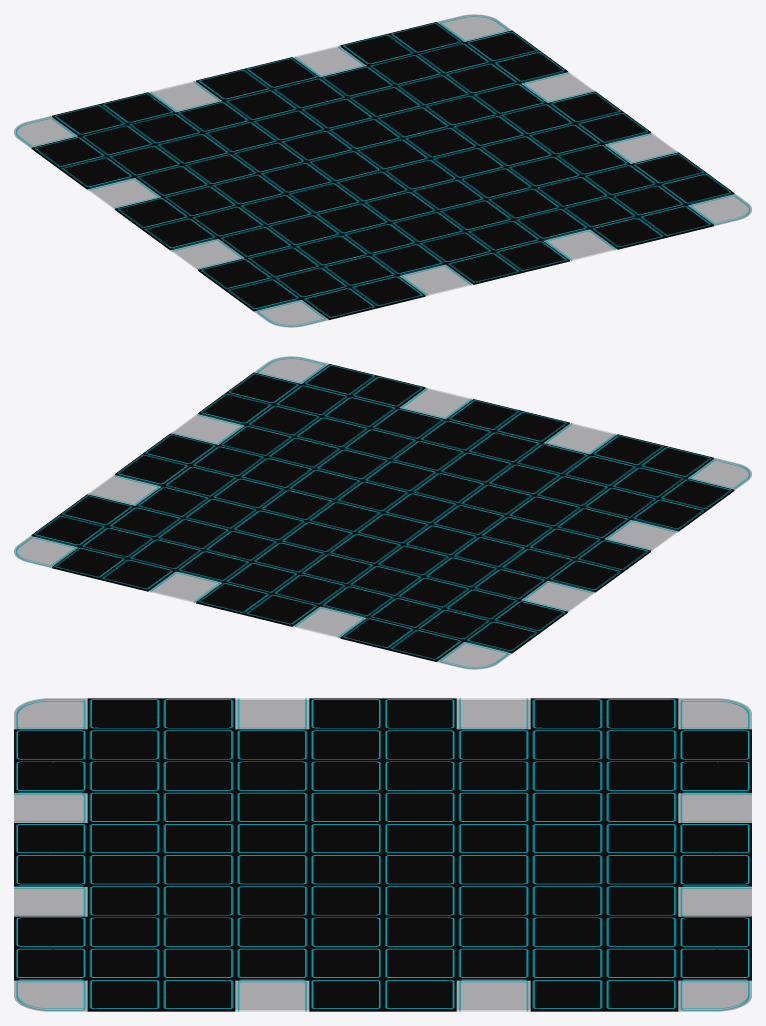
Rendered from arena_l01_01.dae.
3 views of the same model, one above another, from view 1: azimuth 30°, elevation 25°; view 2: azimuth 150°, elevation 25°; view 3: azimuth 270°, elevation 25° (orthographic). The views are drawn at different scales.
Parts seen in each view (by area): view 1: centerl01, pln1b2l01.003, pln1b2l01.001, pln1b2l01.002, pln1b2l01.011, pln1b2l01.010, pln1b2l01, pln1b2l01.007, pln1b2l01.004, pln1b2l01.009, pln1b2l01.006, pln1b2l01.008 (+13 smaller); view 2: centerl01, pln1b2l01.009, pln1b2l01.007, pln1b2l01.008, pln1b2l01.011, pln1b2l01.010, pln1b2l01, pln1b2l01.006, pln1b2l01.001, pln1b2l01.004, pln1b2l01.003, pln1b2l01.002 (+13 smaller); view 3: centerl01, pln1b2l01.006, pln1b2l01.004, pln1b2l01.005, pln1b2l01.011, pln1b2l01.010, pln1b2l01.007, pln1b2l01.001, pln1b2l01.009, pln1b2l01.003, pln1b2l01.008, pln1b2l01.002 (+13 smaller).
Boxes of the visible parts, left/top/right/bottom form: centerl01: left=80, top=42, right=685, bottom=299; pln1b2l01.003: left=302, top=275, right=425, bottom=319; pln1b2l01.001: left=590, top=205, right=713, bottom=249; pln1b2l01.002: left=446, top=240, right=569, bottom=284; pln1b2l01.011: left=31, top=136, right=134, bottom=189; pln1b2l01.010: left=198, top=258, right=301, bottom=311; pln1b2l01: left=115, top=197, right=217, bottom=250; pln1b2l01.007: left=340, top=22, right=463, bottom=65; pln1b2l01.004: left=631, top=152, right=734, bottom=205; pln1b2l01.009: left=52, top=92, right=175, bottom=136; pln1b2l01.006: left=464, top=30, right=567, bottom=83; pln1b2l01.008: left=196, top=57, right=319, bottom=100; centerl01: left=80, top=384, right=685, bottom=641; pln1b2l01.009: left=340, top=617, right=463, bottom=661; pln1b2l01.007: left=52, top=547, right=175, bottom=591; pln1b2l01.008: left=196, top=582, right=319, bottom=626; pln1b2l01.011: left=464, top=600, right=567, bottom=653; pln1b2l01.010: left=631, top=478, right=734, bottom=531; pln1b2l01: left=548, top=539, right=650, bottom=592; pln1b2l01.006: left=31, top=494, right=134, bottom=547; pln1b2l01.001: left=302, top=364, right=425, bottom=407; pln1b2l01.004: left=198, top=372, right=301, bottom=425; pln1b2l01.003: left=590, top=434, right=713, bottom=478; pln1b2l01.002: left=446, top=399, right=569, bottom=442; centerl01: left=87, top=729, right=678, bottom=980; pln1b2l01.006: left=530, top=979, right=678, bottom=1011; pln1b2l01.004: left=87, top=979, right=235, bottom=1011; pln1b2l01.005: left=309, top=979, right=456, bottom=1011; pln1b2l01.011: left=530, top=698, right=678, bottom=729; pln1b2l01.010: left=87, top=698, right=235, bottom=729; pln1b2l01.007: left=678, top=916, right=751, bottom=980; pln1b2l01.001: left=14, top=916, right=87, bottom=980; pln1b2l01.009: left=678, top=729, right=751, bottom=793; pln1b2l01.003: left=14, top=729, right=87, bottom=793; pln1b2l01.008: left=678, top=823, right=751, bottom=886; pln1b2l01.002: left=14, top=823, right=87, bottom=886.
Bounding box in the file's own units: 20 × 20 × 0.05.
Materials: 3 (3 with a texture image).
